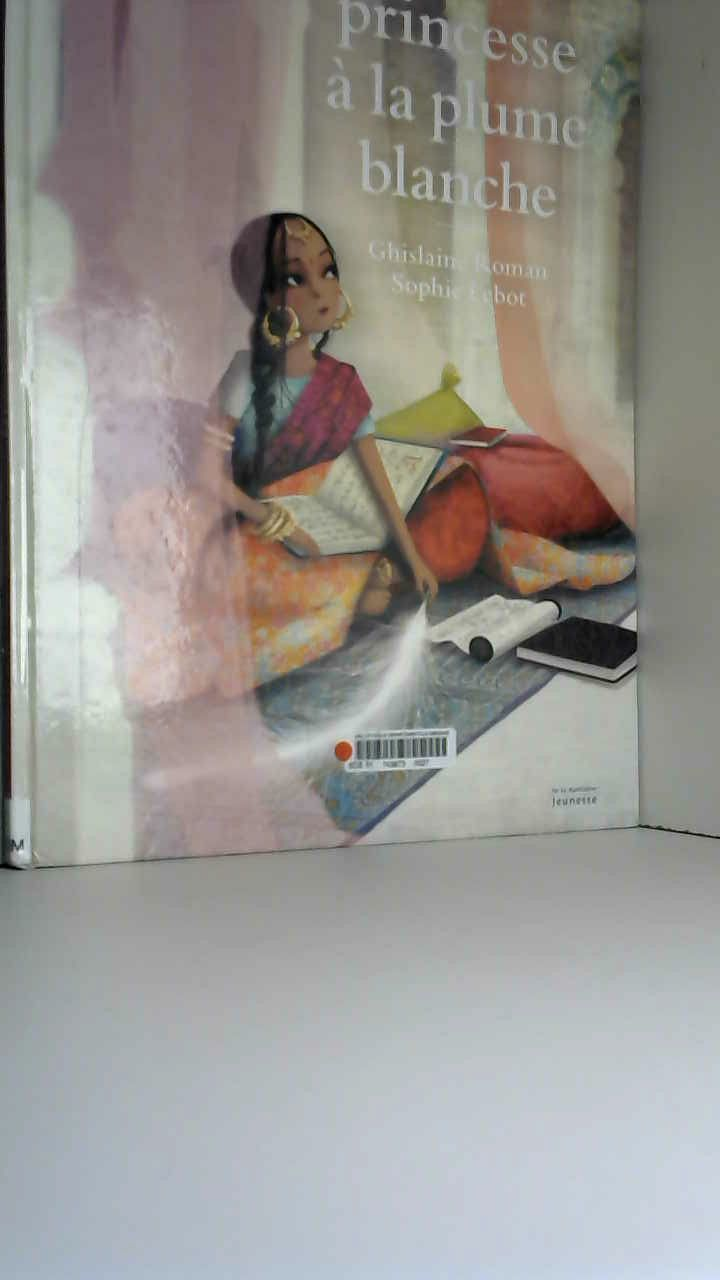book: (0, 0, 669, 894)
